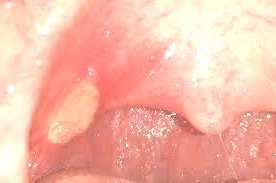Ulcer: (42, 61, 101, 148)
